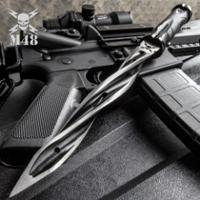knife: (7, 5, 194, 199)
